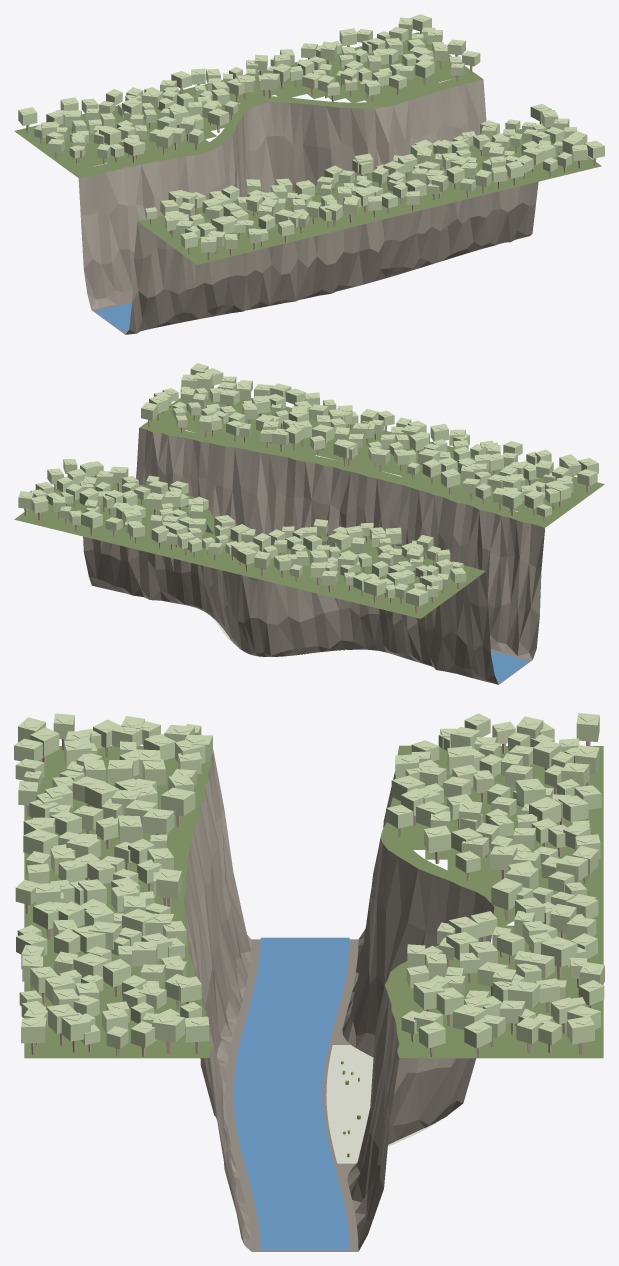
The model's file is ribera.glb.
3 views of the same model, one above another, from view 1: azimuth 30°, elevation 25°; view 2: azimuth 150°, elevation 25°; view 3: azimuth 270°, elevation 25° (orthographic). The views are drawn at different scales.
Visible parts, largest first — view 1: RiberaCanyon, RiberaForestFloor, RiberaRio; view 2: RiberaCanyon, RiberaForestFloor, RiberaRio; view 3: RiberaCanyon, RiberaRio, RiberaForestFloor, RiberaCalaMeadow, ribera_tree_tree_crown_157, ribera_tree_tree_crown_45, ribera_tree_tree_crown_167.
Part boxes in pixels (left/top/right/bottom): RiberaCanyon: left=70, top=73, right=548, bottom=334; RiberaForestFloor: left=14, top=32, right=601, bottom=264; RiberaRio: left=94, top=302, right=131, bottom=331; RiberaCanyon: left=83, top=422, right=553, bottom=684; RiberaForestFloor: left=14, top=388, right=604, bottom=618; RiberaRio: left=491, top=651, right=529, bottom=681; RiberaCanyon: left=158, top=745, right=515, bottom=1251; RiberaRio: left=234, top=937, right=349, bottom=1250; RiberaForestFloor: left=24, top=746, right=603, bottom=1058; RiberaCalaMeadow: left=326, top=1045, right=441, bottom=1163; ribera_tree_tree_crown_157: left=161, top=787, right=195, bottom=816; ribera_tree_tree_crown_45: left=541, top=936, right=577, bottom=967; ribera_tree_tree_crown_167: left=152, top=1014, right=185, bottom=1042.
Size of what is drawn, in the model's own units: 85.56 by 28.34 by 66.34.
